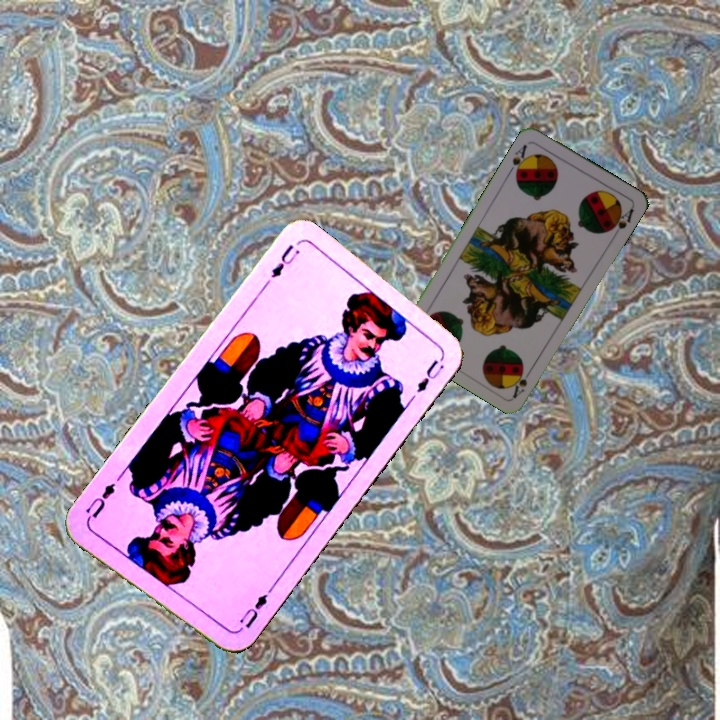EU: (234, 589, 271, 635), (267, 240, 303, 281)
SA: (505, 140, 532, 179), (509, 363, 536, 400)
